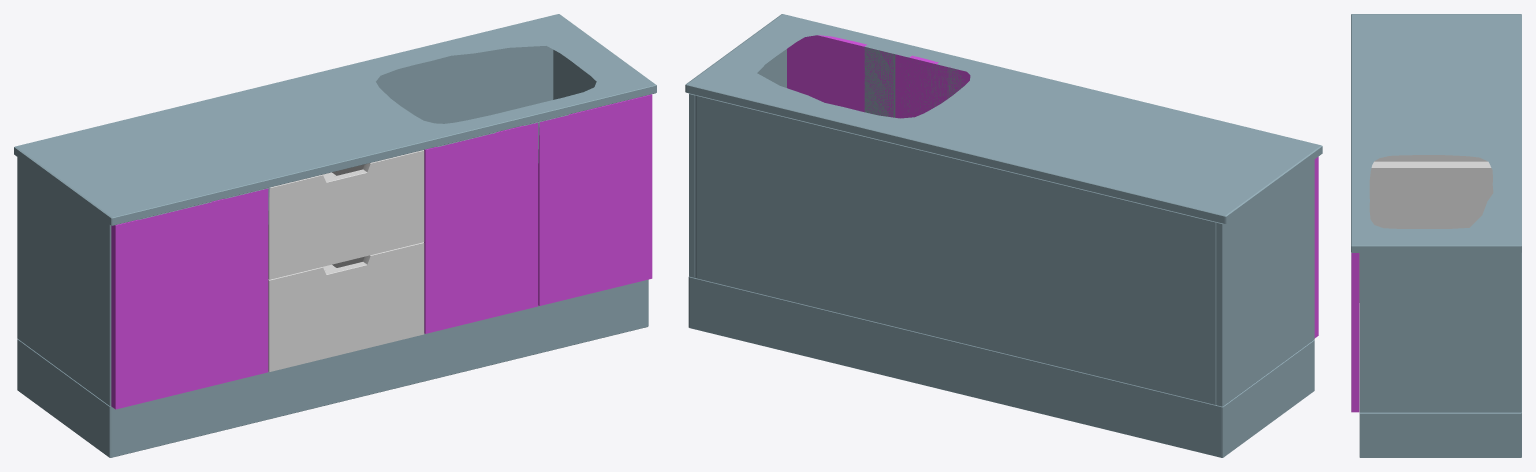
Rendered from mueble.FBX.
The picture shows the model from 3 angles, left to right: view 1: azimuth 30°, elevation 25°; view 2: azimuth 150°, elevation 25°; view 3: azimuth 270°, elevation 25°; orthographic projection. The views are drawn at different scales.
Parts seen in each view (by area): view 1: drawer2, Object009, Object003, Object, Object001, drawer, drawer005, Object007; view 2: drawer2, Object007, Object009, Object, Object001, Object003; view 3: drawer2, Object009, drawer005, Object, drawer.
Boxes of the visible parts, bbox=[...] form: drawer2: bbox=[14, 14, 656, 457]; Object009: bbox=[16, 16, 654, 216]; Object003: bbox=[111, 188, 268, 409]; Object: bbox=[538, 94, 652, 305]; Object001: bbox=[424, 122, 538, 333]; drawer: bbox=[268, 242, 424, 371]; drawer005: bbox=[268, 150, 424, 279]; Object007: bbox=[17, 157, 111, 406]; drawer2: bbox=[685, 14, 1322, 457]; Object007: bbox=[1216, 161, 1314, 406]; Object009: bbox=[720, 15, 1304, 169]; Object: bbox=[787, 35, 893, 117]; Object001: bbox=[895, 54, 970, 118]; Object003: bbox=[1314, 156, 1318, 338]; drawer2: bbox=[1351, 14, 1521, 457]; Object009: bbox=[1351, 14, 1521, 245]; drawer005: bbox=[1369, 155, 1493, 222]; Object: bbox=[1351, 253, 1359, 412]; drawer: bbox=[1359, 222, 1474, 302].
Bounding box in the file's own units: 139 × 59.61 × 43.16.
